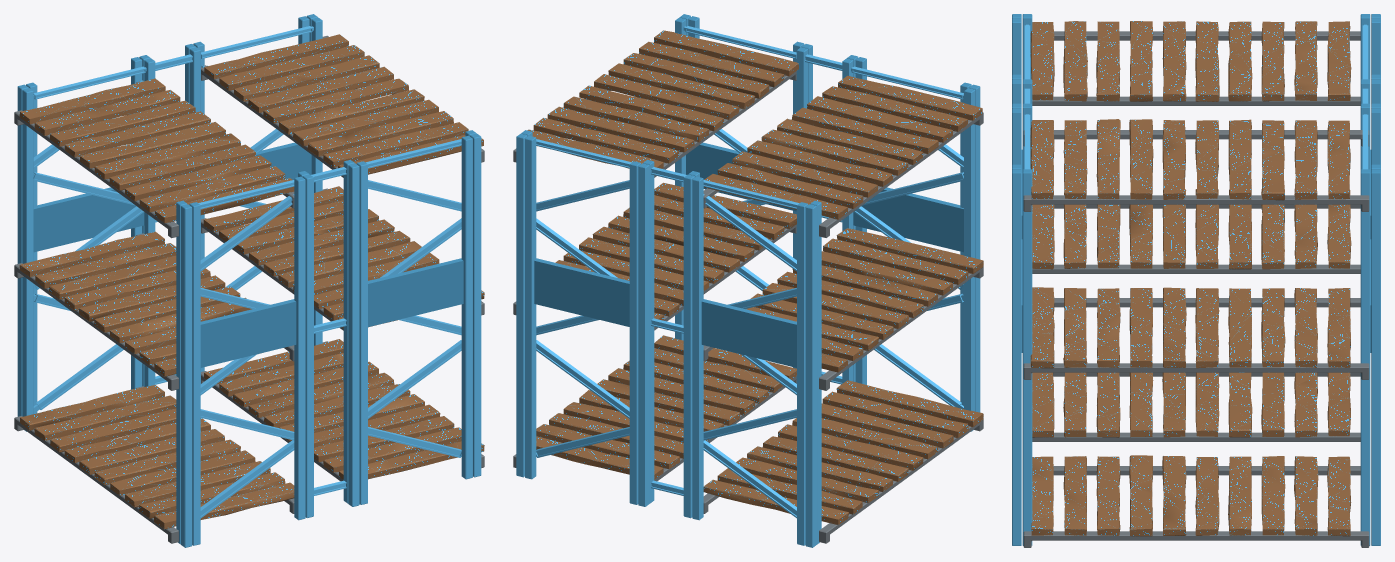
Rendered from Shelves.fbx.
3 views of the same model, side by side, from view 1: azimuth 30°, elevation 25°; view 2: azimuth 150°, elevation 25°; view 3: azimuth 270°, elevation 25° (orthographic). The views are drawn at different scales.
Parts seen in each view (by area): view 1: ShelvesDouble; view 2: ShelvesDouble; view 3: ShelvesDouble.
Boxes of the visible parts, <box> form: ShelvesDouble: <box>14,14,484,547</box>; ShelvesDouble: <box>513,14,983,547</box>; ShelvesDouble: <box>1012,14,1380,547</box>.
Size of the model in its own units: 396 by 400 by 358.
2 materials, 2 textured.
